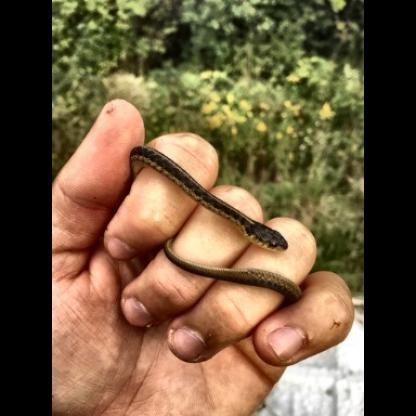Snake: (138, 142, 295, 257)
